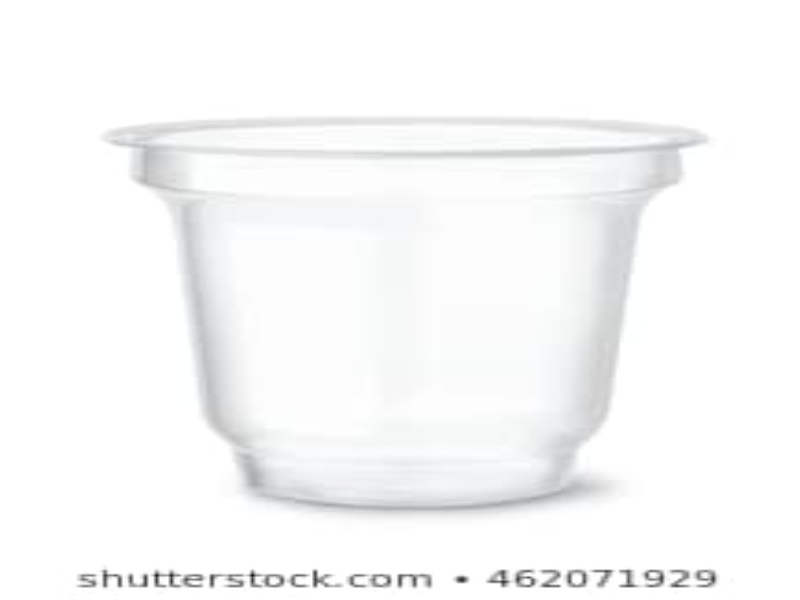plastic-cup: (99, 113, 717, 519)
